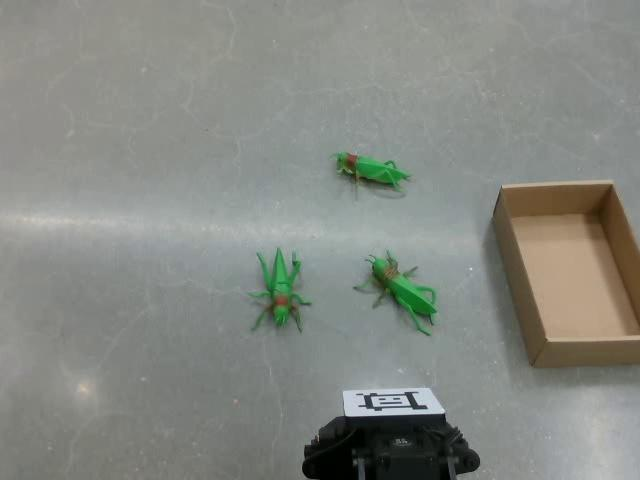box: (491, 178, 639, 368)
grasshopper: (352, 248, 438, 336), (246, 246, 311, 333), (328, 150, 412, 192)
